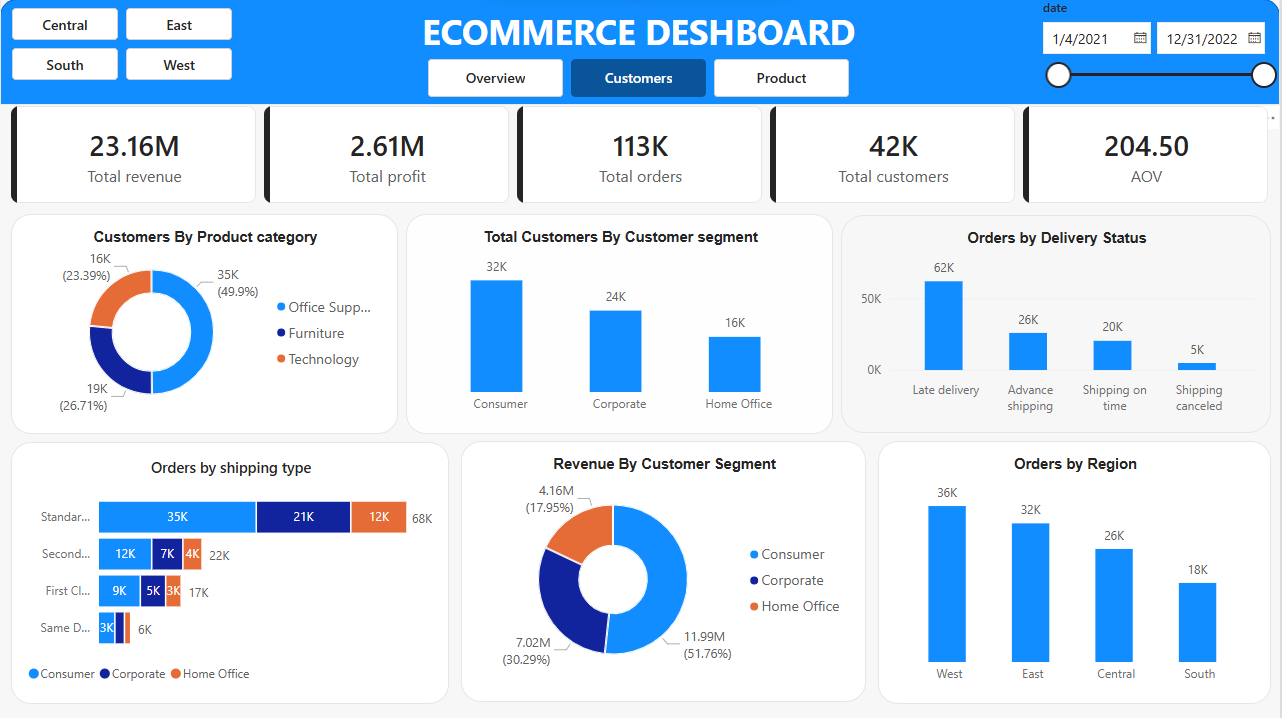

This screenshot's page, from the dashboard's own definition file:
{"tool":"powerbi","page":{"name":"Customers","canvas":[1280,720],"ordinal":1},"visuals":[{"type":"shape","box":[0,0,1280,105.6],"z":500},{"type":"cardVisual","fields":{"Data":["ecommerce_data.Total revenue","ecommerce_data.Total profit","ecommerce_data.Total orders","ecommerce_data.Total customers","ecommerce_data.AOV"]},"box":[11,107,1259,97],"z":1000},{"type":"advancedSlicerVisual","fields":{"Values":["ecommerce_data.customer_region"]},"box":[11.7,9.4,220.4,72.7],"z":2000},{"type":"slicer","fields":{"Values":["calander.date"]},"box":[1035,0,245,97.3],"z":3000},{"type":"columnChart","title":"Orders by Region","fields":{"Category":["ecommerce_data.customer_region"],"Y":["ecommerce_data.Total orders"]},"box":[877.8,442.5,392.7,262.2],"z":4000},{"type":"donutChart","title":"Revenue By Customer Segment","fields":{"Category":["ecommerce_data.customer_segment"],"Y":["ecommerce_data.Total revenue"]},"box":[461.5,442.5,404.5,261],"z":5000},{"type":"donutChart","title":"Customers By Product category","fields":{"Category":["ecommerce_data.product_category"],"Y":["ecommerce_data.Total customers"]},"box":[11,215,387,220],"z":6000},{"type":"barChart","title":"Orders by shipping type","fields":{"Category":["ecommerce_data.shipping_type"],"Series":["ecommerce_data.customer_segment"],"Y":["ecommerce_data.Total orders"]},"box":[11.2,442.5,437.5,262.5],"z":7000},{"type":"columnChart","title":"Orders by Delivery Status","fields":{"Category":["ecommerce_data.delivery_status"],"Y":["ecommerce_data.Total orders"]},"box":[841.1,215.9,429.4,218.3],"z":8000},{"type":"columnChart","title":"Total Customers By Customer segment","fields":{"Category":["ecommerce_data.customer_segment"],"Y":["ecommerce_data.Total customers"]},"box":[406,215,427,220],"z":9000},{"type":"textbox","title":"ECOMMERCE DESHBOARD","box":[422.2,8.9,455.6,70],"z":10000},{"type":"pageNavigator","box":[427.8,60,423.3,37.8],"z":11000}]}

Visuals, with their boxes in screenshot pixels (x1, y1, x2, y2), scaled from the page's 1280x720 canvas onto the 1282x718 screenshot:
shape: [x1=0, y1=0, x2=1281, y2=105]
cardVisual - ecommerce_data.Total revenue x ecommerce_data.Total profit: [x1=11, y1=107, x2=1272, y2=203]
advancedSlicerVisual - ecommerce_data.customer_region: [x1=12, y1=9, x2=232, y2=82]
slicer - calander.date: [x1=1037, y1=0, x2=1281, y2=97]
"Orders by Region" columnChart: [x1=879, y1=441, x2=1272, y2=703]
"Revenue By Customer Segment" donutChart: [x1=462, y1=441, x2=867, y2=702]
"Customers By Product category" donutChart: [x1=11, y1=214, x2=399, y2=434]
"Orders by shipping type" barChart: [x1=11, y1=441, x2=449, y2=703]
"Orders by Delivery Status" columnChart: [x1=842, y1=215, x2=1272, y2=433]
"Total Customers By Customer segment" columnChart: [x1=407, y1=214, x2=834, y2=434]
"ECOMMERCE DESHBOARD" textbox: [x1=423, y1=9, x2=879, y2=79]
pageNavigator: [x1=428, y1=60, x2=852, y2=98]
